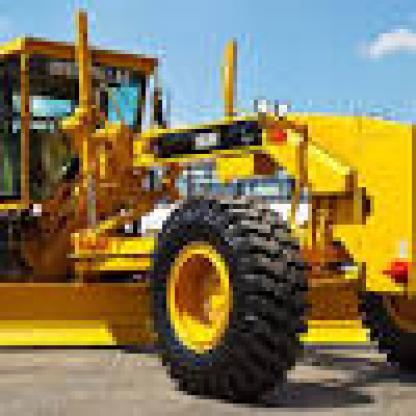bull_dozer/loader/grader: (0, 25, 412, 379)
